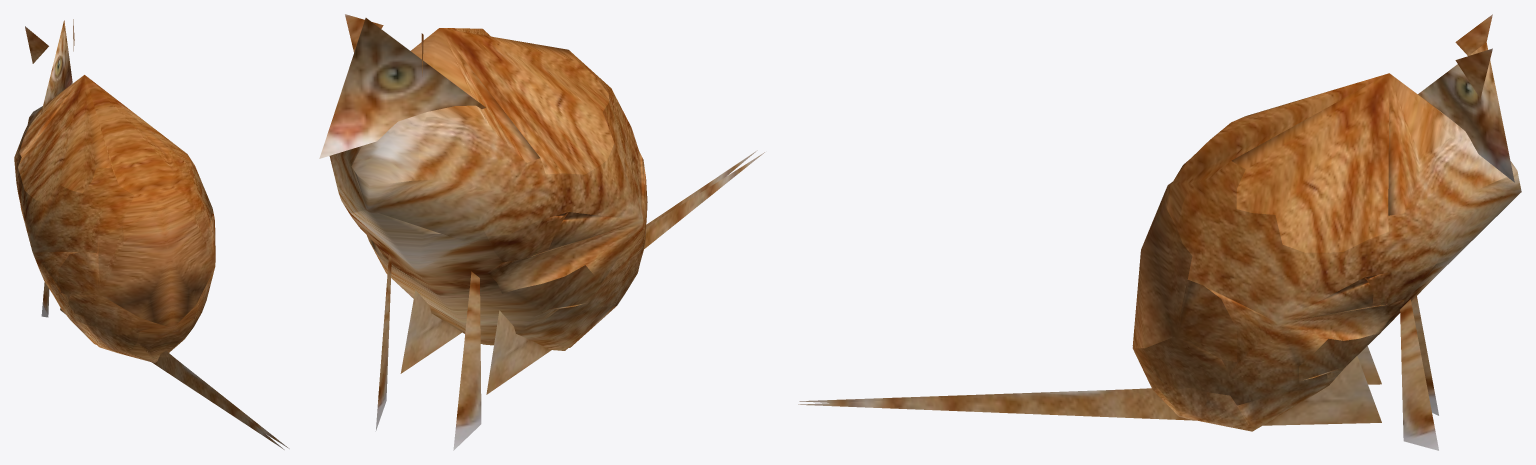
Rendered from cat_ginger_lo.glb.
3 views of the same model, side by side, from view 1: azimuth 30°, elevation 25°; view 2: azimuth 150°, elevation 25°; view 3: azimuth 270°, elevation 25° (orthographic). The views are drawn at different scales.
Visible parts, largest first — view 1: cat_ginger_lo; view 2: cat_ginger_lo; view 3: cat_ginger_lo.
Part boxes in pixels (box(x1,y1,x2,y2)): cat_ginger_lo: box(14, 19, 289, 449); cat_ginger_lo: box(319, 14, 764, 450); cat_ginger_lo: box(798, 14, 1521, 450).
Bounding box in the file's own units: 0.1989 × 0.2921 × 0.4766.
1 material, 1 textured.
